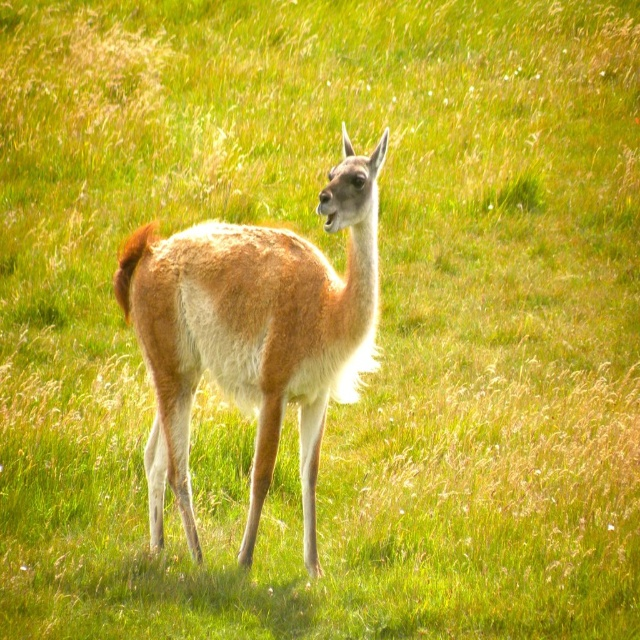Deer: (113, 121, 389, 579)
